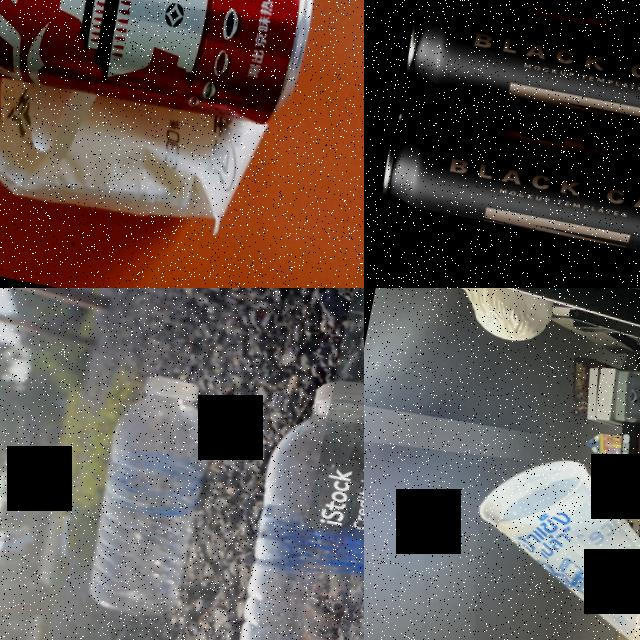bottle: (210, 364, 364, 640)
can: (378, 96, 640, 276), (0, 0, 332, 131), (402, 0, 640, 156)
cup: (457, 441, 640, 640)
